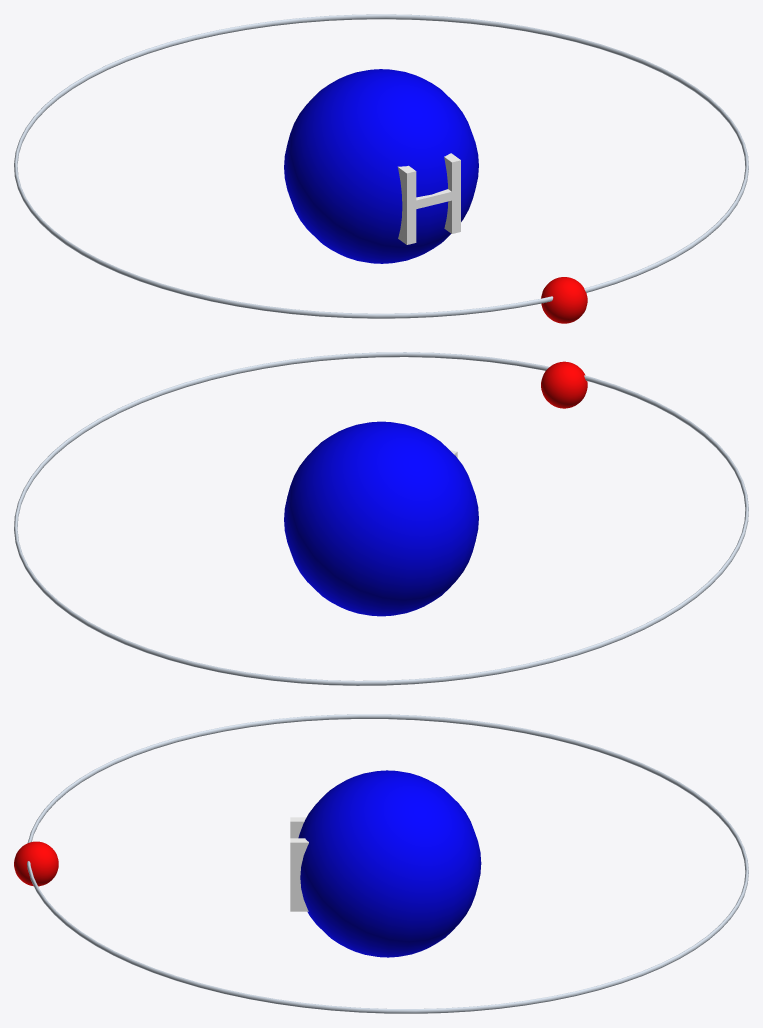
The model's file is hydrogen.gltf.
3 renders of one model, top to bottom at view 1: azimuth 30°, elevation 25°; view 2: azimuth 150°, elevation 25°; view 3: azimuth 270°, elevation 25°, orthographic. The views are drawn at different scales.
Parts seen in each view (by area): view 1: Sphere2, Torus, Text, Sphere1; view 2: Sphere2, Torus, Sphere1; view 3: Sphere2, Torus, Sphere1, Text.
Boxes of the visible parts, x1,y1,x2,y2 form: Sphere2: [284, 69, 478, 263]; Torus: [14, 14, 748, 318]; Text: [398, 153, 460, 244]; Sphere1: [541, 277, 587, 323]; Sphere2: [284, 421, 478, 616]; Torus: [14, 352, 748, 685]; Sphere1: [541, 361, 587, 408]; Sphere2: [298, 770, 481, 957]; Torus: [27, 714, 748, 1013]; Sphere1: [14, 841, 58, 886]; Text: [290, 817, 308, 911].
Size of what is drawn, in the model's own units: 3.74 by 1 by 3.92.
